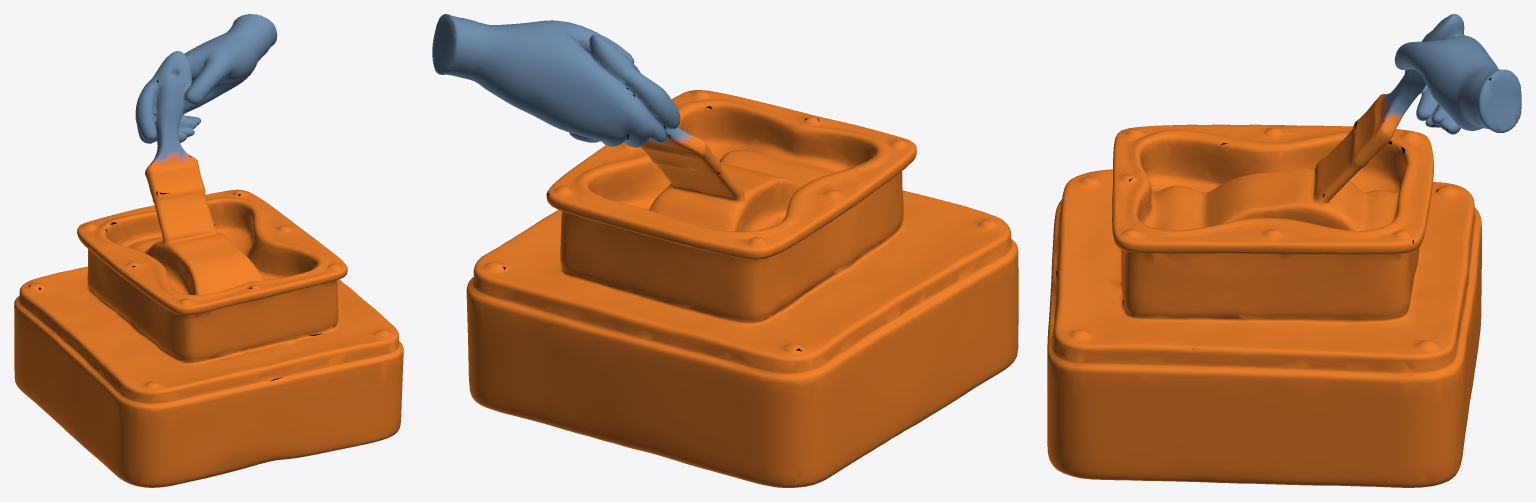
File: gel-coat.glb
The picture shows the model from 3 angles, left to right: view 1: azimuth 30°, elevation 25°; view 2: azimuth 150°, elevation 25°; view 3: azimuth 270°, elevation 25°; orthographic projection. The views are drawn at different scales.
Parts seen in each view (by area): view 1: tmp80ed119z.ply; view 2: tmp80ed119z.ply; view 3: tmp80ed119z.ply.
Boxes of the visible parts, x1,y1,x2,y2 form: tmp80ed119z.ply: [14, 14, 403, 487]; tmp80ed119z.ply: [432, 14, 1018, 487]; tmp80ed119z.ply: [1047, 14, 1521, 487].
Size of the model in its own units: 1.92 by 1.89 by 1.96.
1 material, 1 textured.
